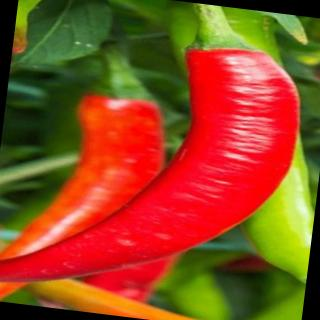Cabai Merah: (1, 1, 308, 317)
